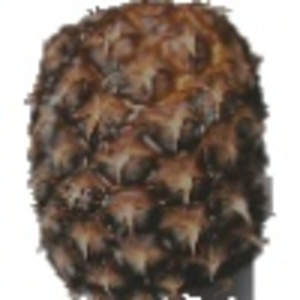abacaxi: (19, 2, 279, 300)
